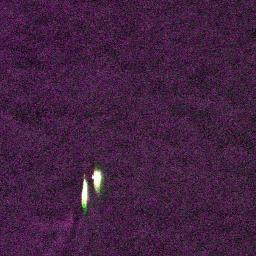Ship: (79, 175, 89, 211), (90, 167, 104, 192)
